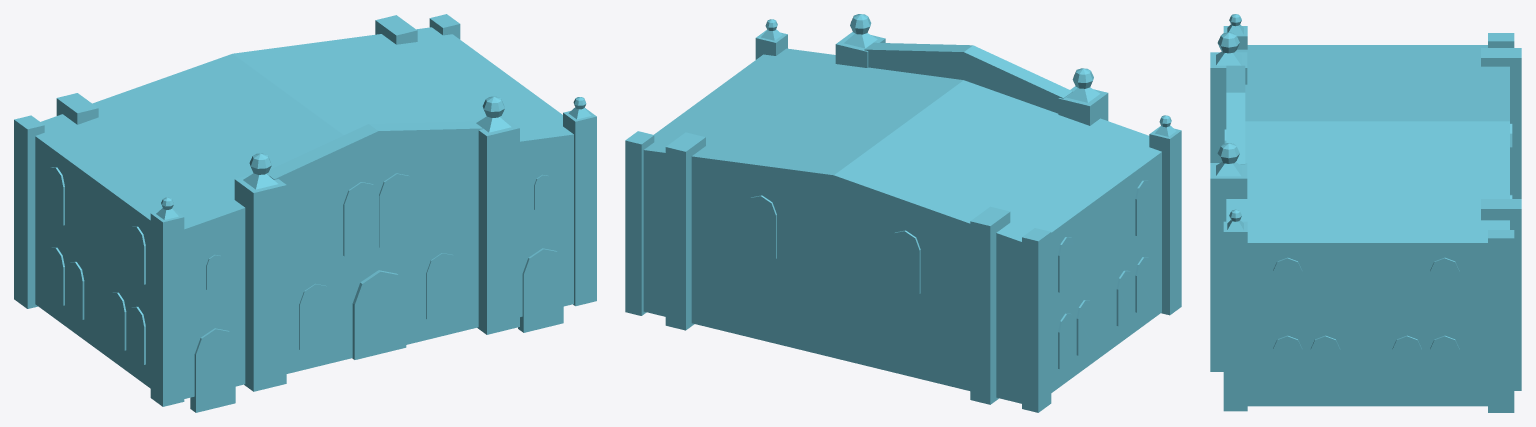
File: mesh_SynagogueLowPoly.fbx
3 renders of one model, left to right at view 1: azimuth 30°, elevation 25°; view 2: azimuth 150°, elevation 25°; view 3: azimuth 270°, elevation 25°, orthographic. The views are drawn at different scales.
Visible parts, largest first — view 1: SynagogueMesh.001; view 2: SynagogueMesh.001; view 3: SynagogueMesh.001.
Boxes of the visible parts, x1,y1,x2,y2 form: SynagogueMesh.001: (14,14,596,412); SynagogueMesh.001: (625,14,1181,412); SynagogueMesh.001: (1210,14,1521,412).
Size of the model in its own units: 1560 by 828 by 998.
